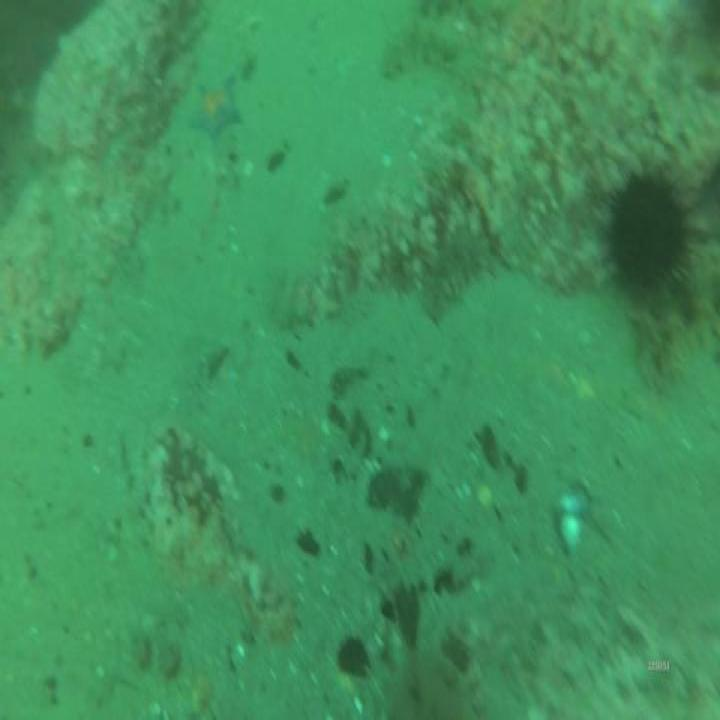echinus: (604, 160, 698, 308)
holothurian: (630, 233, 720, 398), (418, 222, 499, 327), (378, 14, 463, 87)
starfish: (187, 73, 245, 147)
